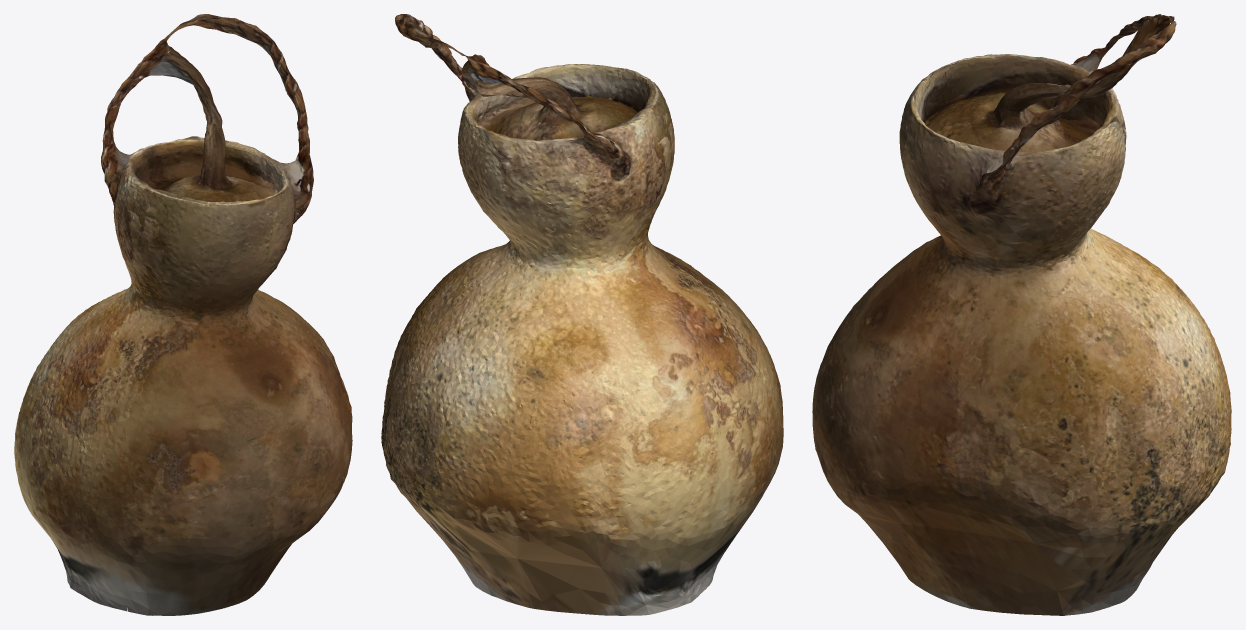
File: pumpkin.glb
3 renders of one model, left to right at view 1: azimuth 30°, elevation 25°; view 2: azimuth 150°, elevation 25°; view 3: azimuth 270°, elevation 25°, orthographic. The views are drawn at different scales.
Size of the model in its own units: 0.1557 by 0.2482 by 0.1584.
Materials: 1 (1 with a texture image).
